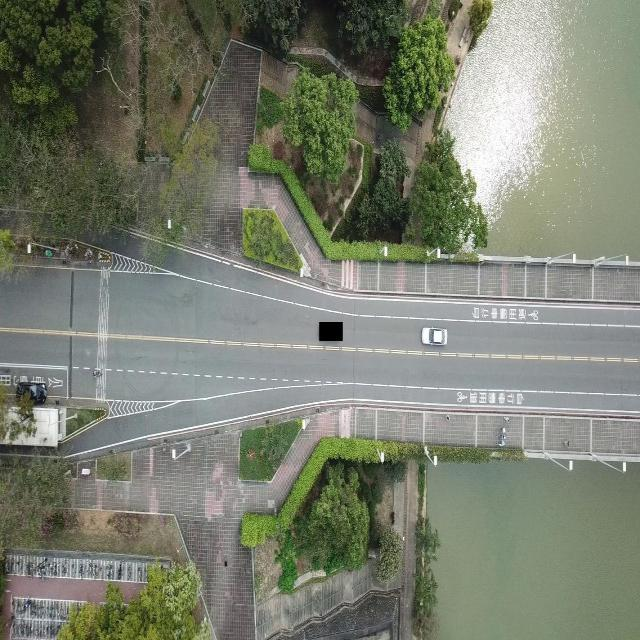car: (14, 380, 46, 404), (421, 325, 448, 346)
